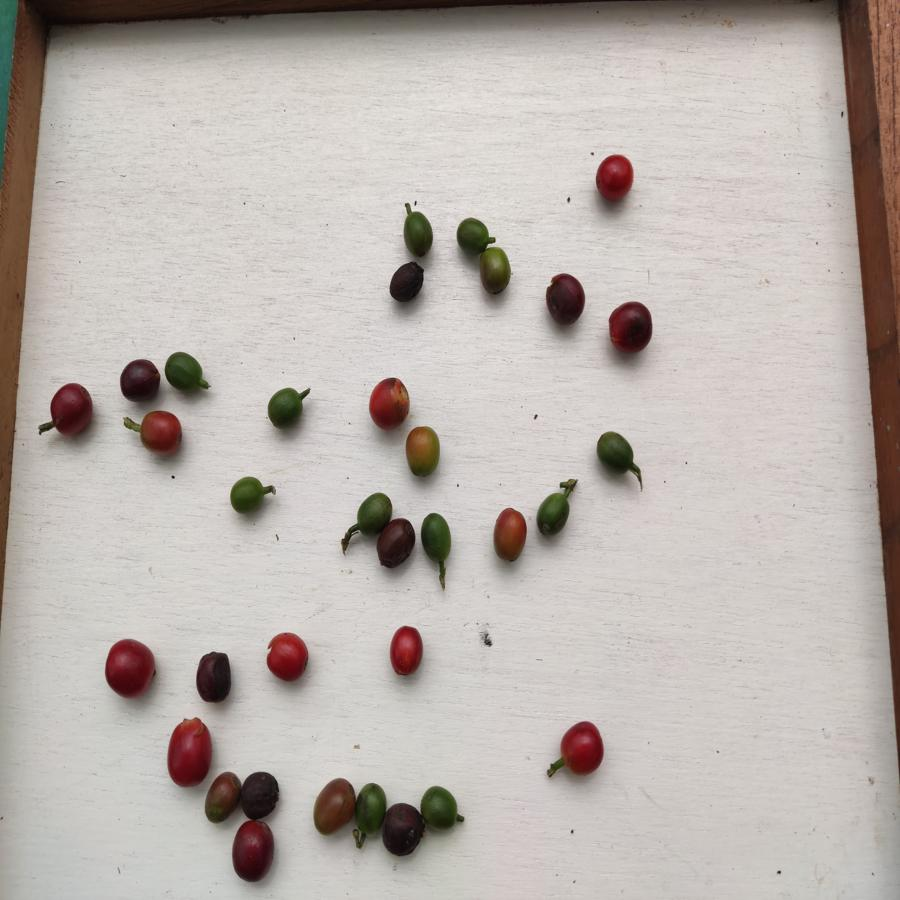Inmaduro: (420, 782, 459, 835), (535, 491, 576, 541), (264, 385, 306, 433), (353, 781, 390, 835), (593, 429, 635, 475), (402, 208, 440, 258), (351, 488, 392, 534), (417, 512, 454, 561), (164, 350, 207, 392), (455, 214, 495, 255), (226, 475, 267, 515)
Maduro: (104, 636, 163, 700), (164, 717, 213, 790), (259, 629, 314, 687), (556, 716, 607, 776), (367, 374, 412, 433), (593, 151, 635, 203), (389, 624, 427, 681), (139, 411, 184, 456)
Pinton: (310, 776, 356, 838), (490, 505, 531, 565), (405, 425, 444, 480), (478, 247, 515, 298)
Sobremaduro: (48, 378, 97, 439), (606, 302, 656, 356), (232, 820, 275, 882), (114, 355, 165, 405), (545, 271, 588, 325), (383, 801, 424, 857), (195, 648, 233, 708), (376, 517, 418, 569), (388, 259, 428, 308), (240, 772, 281, 819), (207, 772, 240, 824)
